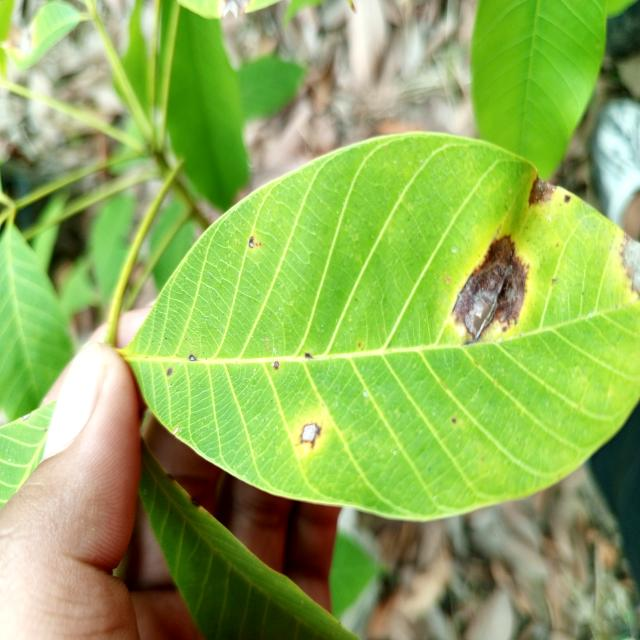Colletotrichum: (274, 361, 279, 368), (167, 368, 172, 375)
Leaf-Blight: (450, 235, 530, 346), (622, 234, 640, 297), (528, 175, 556, 206)
